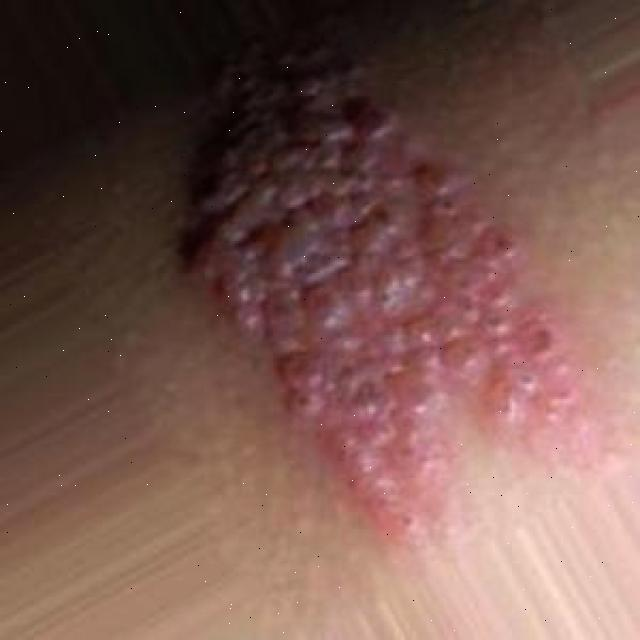Shingles: (172, 42, 614, 550)
